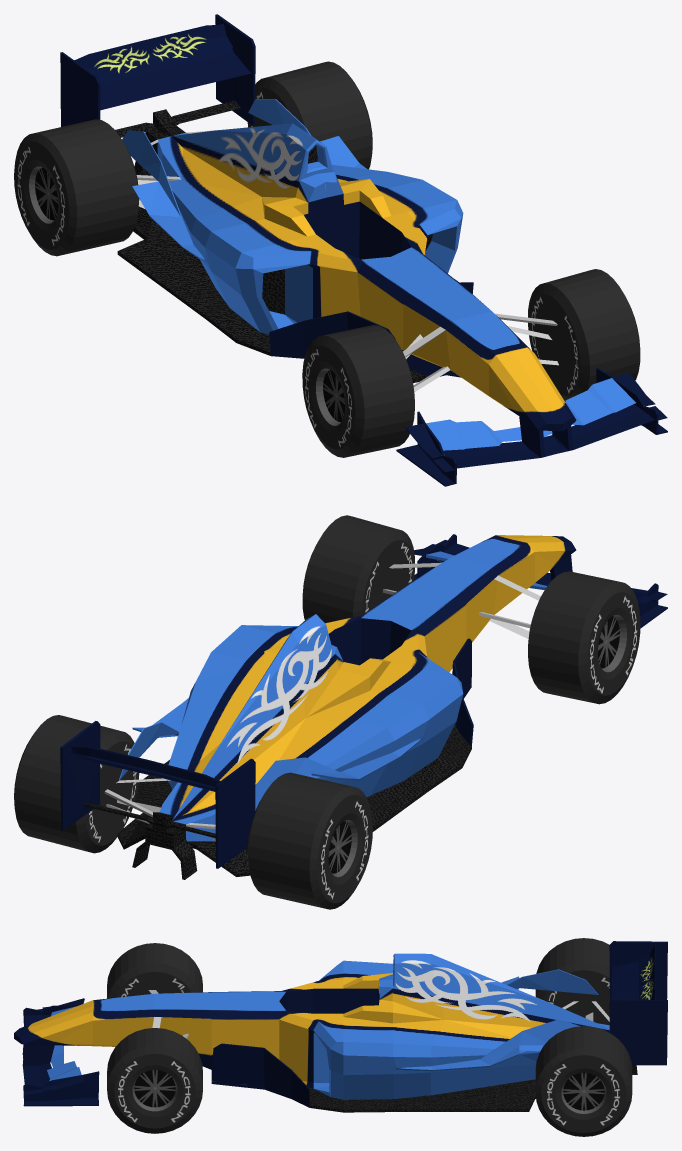
The model's file is car 5.fbx.
3 views of the same model, one above another, from view 1: azimuth 30°, elevation 25°; view 2: azimuth 150°, elevation 25°; view 3: azimuth 270°, elevation 25° (orthographic). The views are drawn at different scales.
Parts seen in each view (by area): view 1: Chasis, RR, FR, FL, RL; view 2: Chasis, RR, FR, RL, FL, FR Sus, RL Sus; view 3: Chasis, RL, FL, FR, RR.
Part boxes in pixels (x1,y1,x2,y2): Chasis: [60, 14, 667, 486]; RR: [14, 119, 139, 256]; FR: [302, 325, 414, 457]; FL: [528, 269, 640, 401]; RL: [247, 61, 372, 169]; Chasis: [60, 534, 667, 879]; RR: [247, 772, 372, 909]; FR: [528, 571, 640, 704]; RL: [14, 715, 139, 853]; FL: [302, 515, 414, 623]; FR Sus: [479, 575, 540, 638]; RL Sus: [104, 778, 170, 823]; Chasis: [14, 941, 667, 1112]; RL: [535, 1026, 632, 1136]; FL: [107, 1028, 202, 1133]; FR: [107, 943, 202, 998]; RR: [535, 938, 609, 1025].
Size of the model in its own units: 183 by 96.14 by 441.
